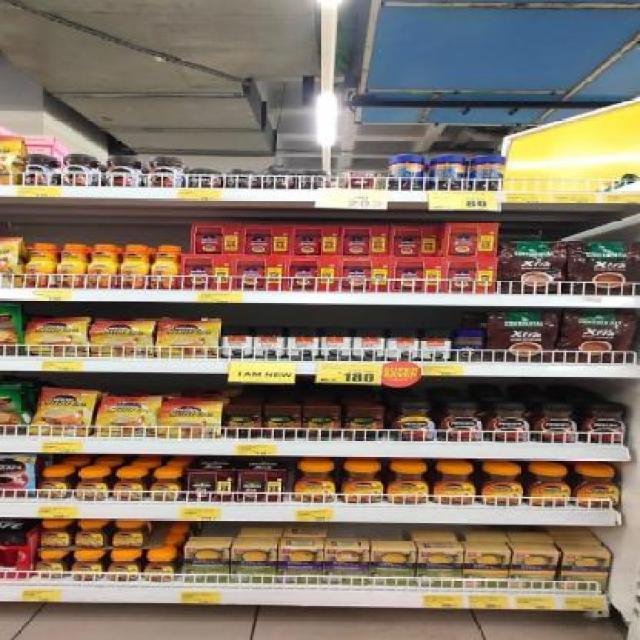Coffee: (34, 389, 92, 436), (158, 320, 218, 358), (98, 398, 157, 436), (89, 321, 151, 357), (162, 402, 221, 438), (27, 320, 85, 354), (439, 404, 485, 442), (532, 405, 578, 443), (580, 406, 626, 444), (478, 469, 526, 505), (387, 468, 433, 504), (486, 405, 530, 442), (433, 468, 476, 504), (575, 471, 618, 507), (528, 471, 570, 507), (293, 468, 336, 502), (343, 468, 386, 502), (24, 244, 56, 288), (150, 245, 180, 288), (58, 154, 98, 185), (122, 244, 150, 288), (88, 244, 117, 286), (146, 156, 184, 188), (102, 156, 140, 186), (58, 244, 85, 286), (21, 154, 55, 185), (149, 472, 183, 500), (37, 471, 70, 499), (114, 471, 147, 499), (38, 522, 71, 549), (144, 555, 175, 582), (108, 555, 140, 581), (35, 552, 65, 579), (77, 471, 106, 498), (112, 522, 142, 548), (71, 554, 101, 580), (74, 523, 103, 549), (295, 170, 331, 189), (225, 170, 257, 188), (260, 170, 292, 188), (190, 169, 221, 187)
